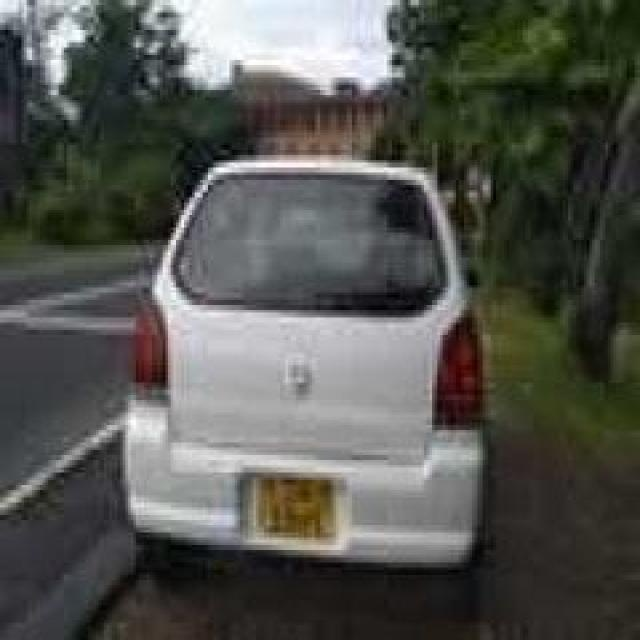car: (97, 96, 524, 626)
